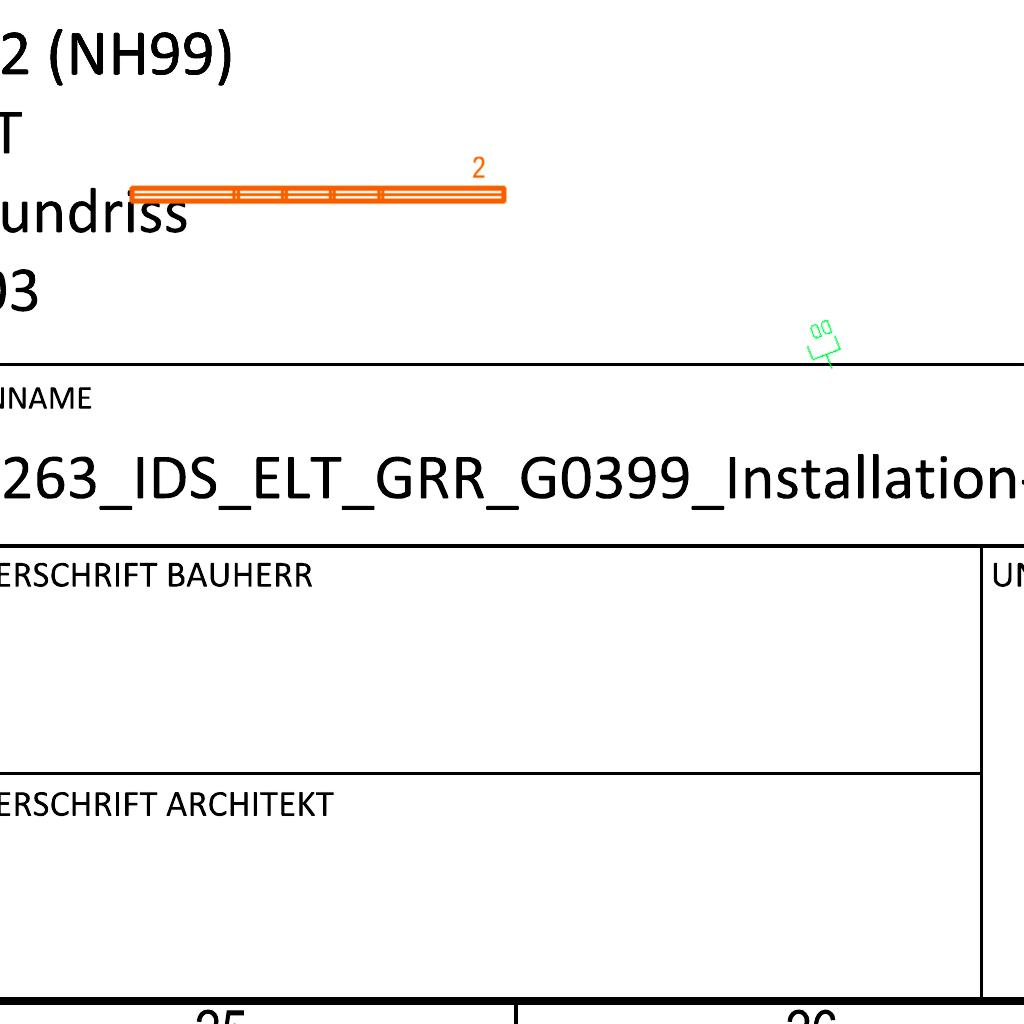Ambulanz_Pendelleuchte_LED: (124, 154, 511, 210)
Datenanschluss_zweifach: (798, 316, 849, 376)
